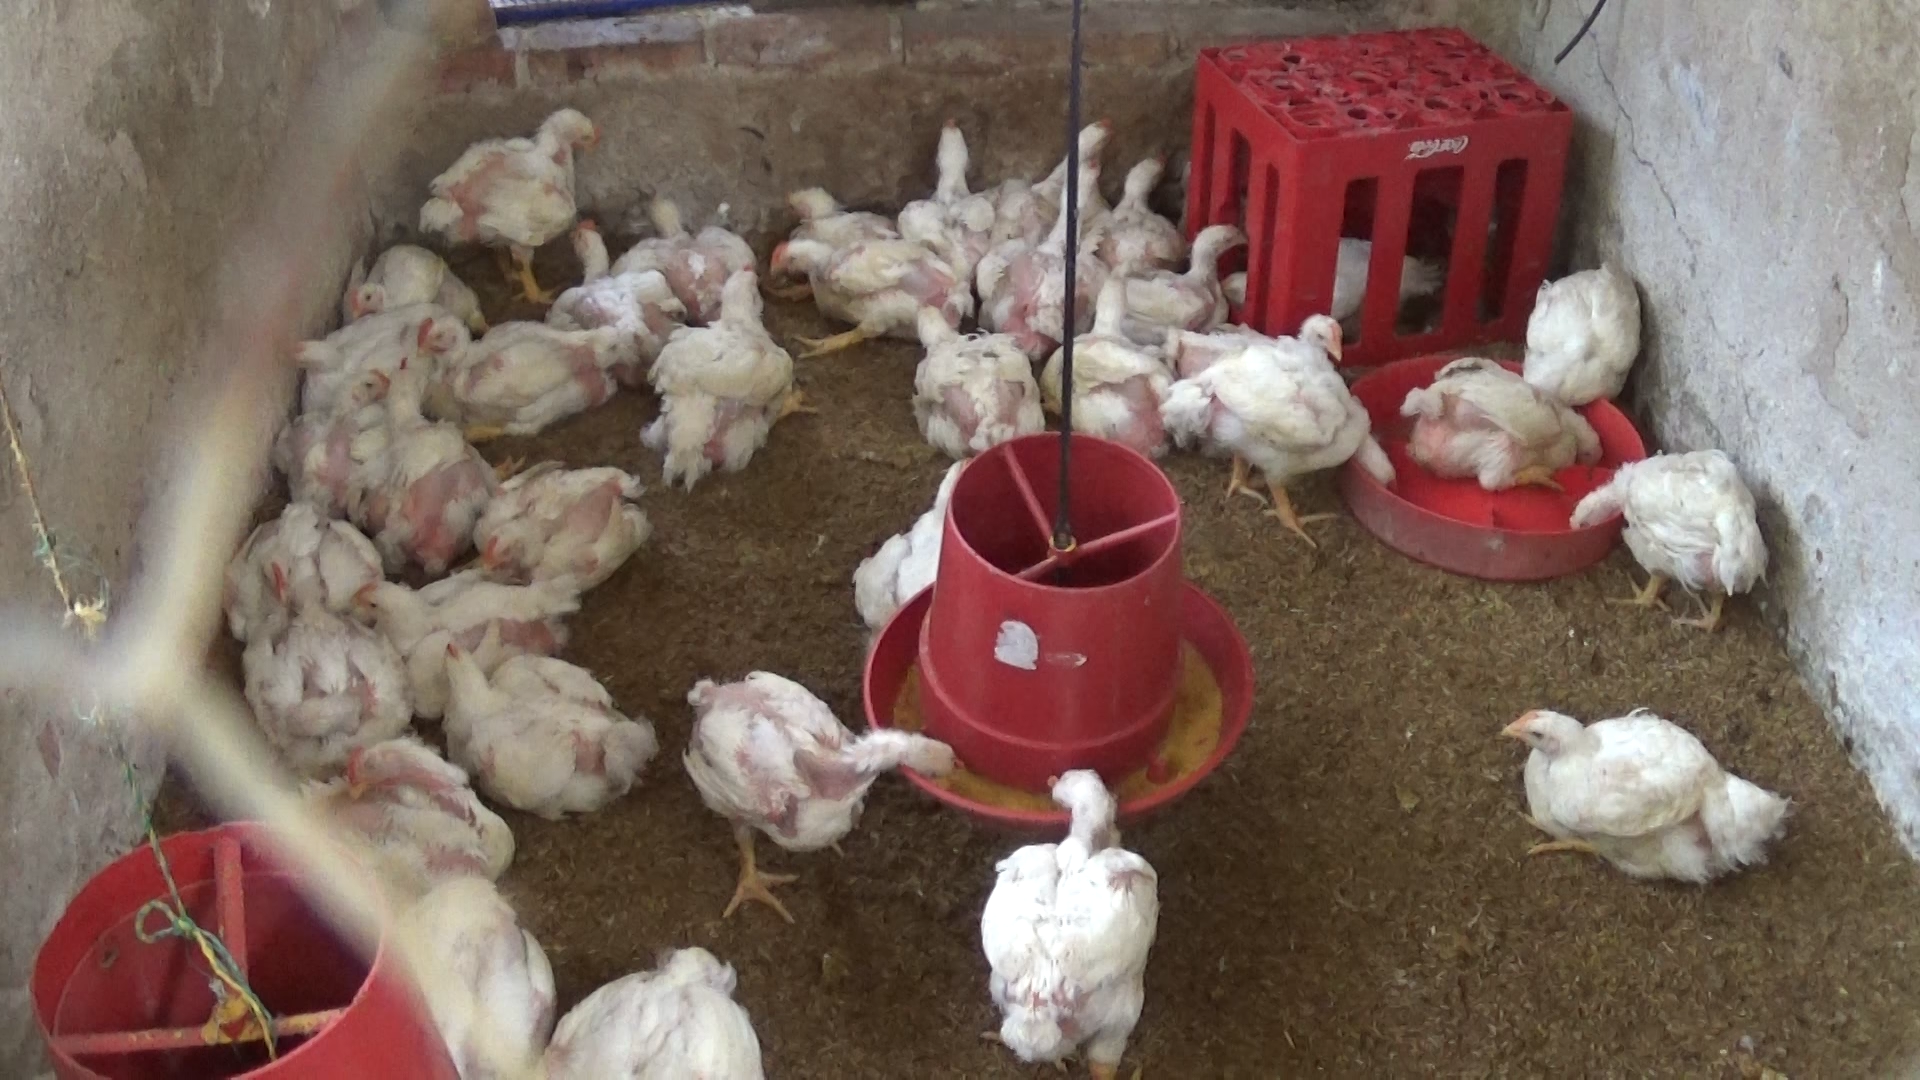Pollos: (676, 667, 965, 924), (985, 753, 1164, 1080), (1495, 696, 1785, 893), (1153, 336, 1406, 549), (1557, 444, 1780, 646), (640, 253, 814, 477), (422, 640, 657, 804), (290, 738, 530, 882), (418, 102, 607, 284), (546, 948, 773, 1080), (229, 592, 415, 746), (1404, 363, 1604, 495), (236, 492, 407, 642), (409, 301, 618, 419), (986, 169, 1122, 335), (349, 564, 568, 667), (1513, 258, 1658, 413), (746, 232, 949, 340), (899, 303, 1038, 455), (483, 452, 647, 578), (278, 361, 407, 491), (1124, 204, 1269, 318), (1054, 316, 1185, 436), (541, 214, 662, 342), (989, 115, 1104, 237), (625, 185, 766, 280), (911, 119, 986, 284), (339, 241, 469, 327), (1102, 142, 1191, 264), (1187, 305, 1357, 367), (793, 177, 894, 241)
